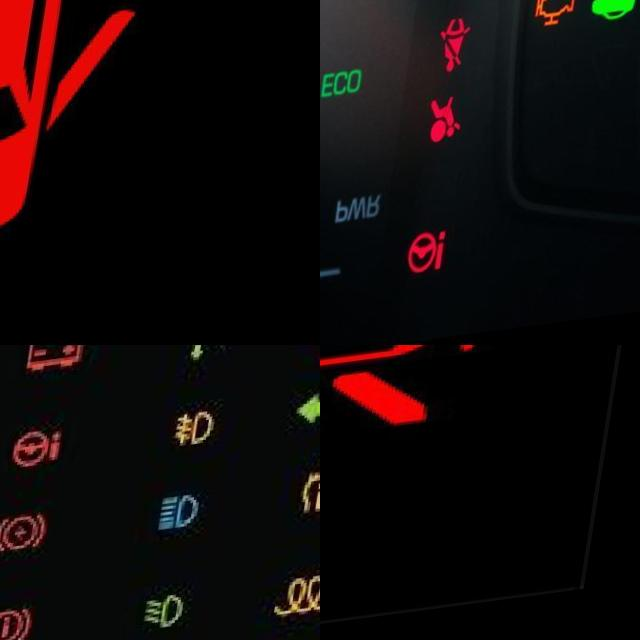Electronic Power Steering: (13, 433, 74, 481), (423, 235, 469, 284)
Seat Belt: (446, 23, 486, 81)
